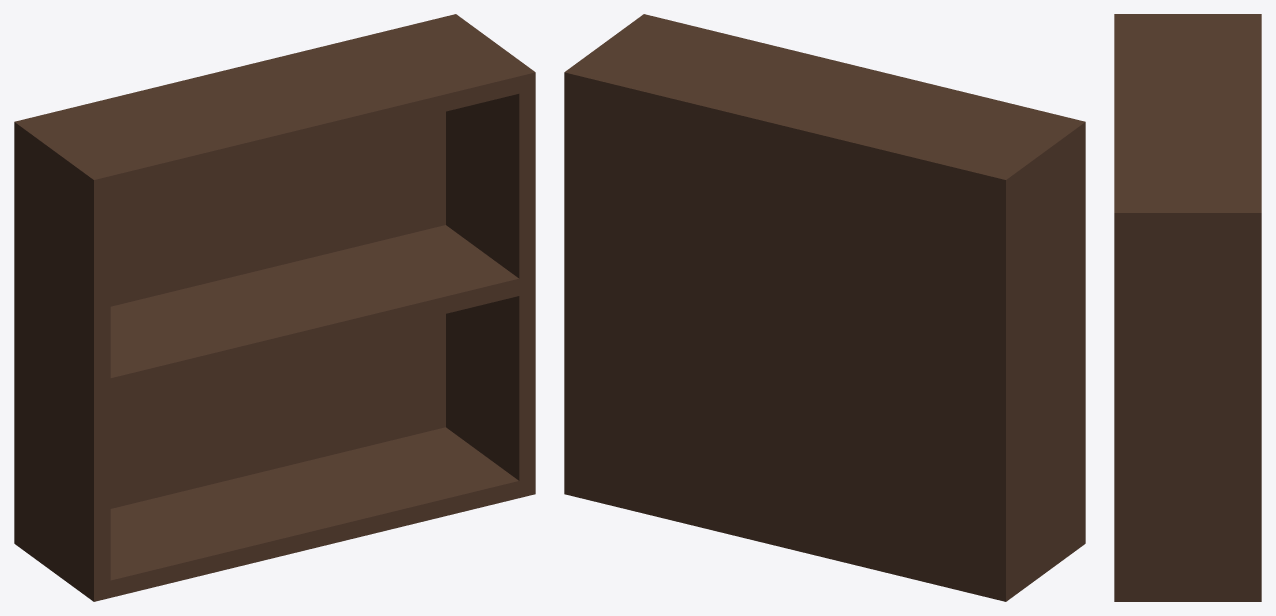
File: shelf.glb
3 views of the same model, side by side, from view 1: azimuth 30°, elevation 25°; view 2: azimuth 150°, elevation 25°; view 3: azimuth 270°, elevation 25° (orthographic). The views are drawn at different scales.
Size of the model in its own units: 0.8 by 0.73 by 0.25.
